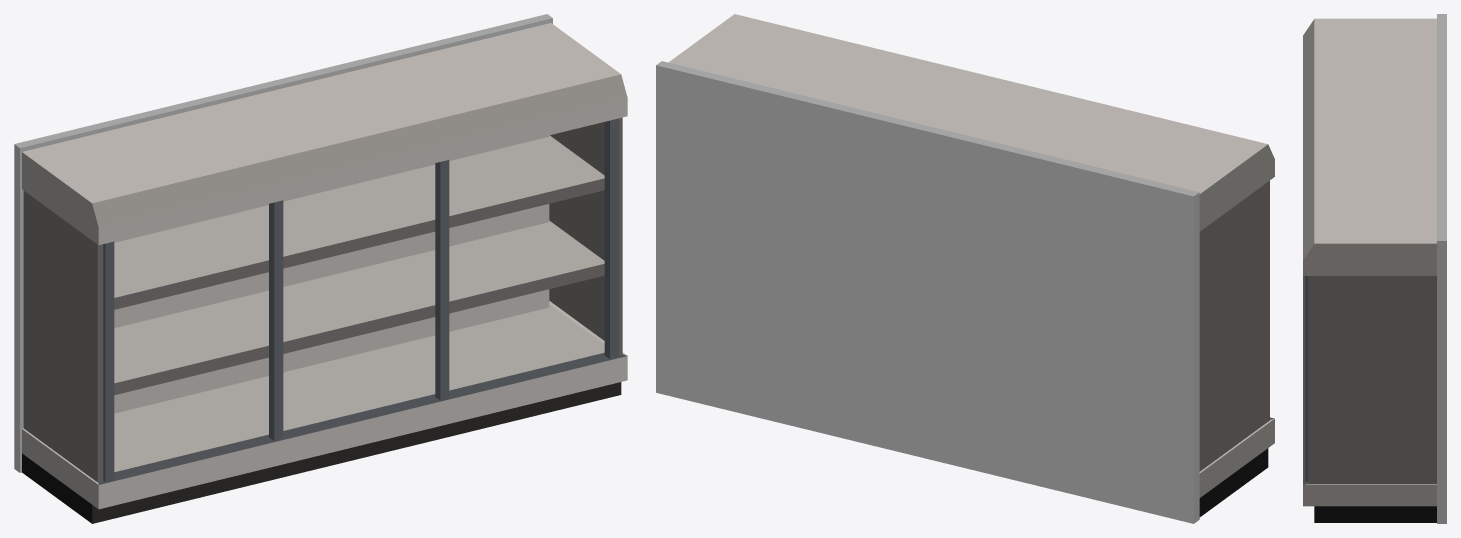
The model's file is ShelfFreezerEmpty.glb.
3 renders of one model, left to right at view 1: azimuth 30°, elevation 25°; view 2: azimuth 150°, elevation 25°; view 3: azimuth 270°, elevation 25°, orthographic. The views are drawn at different scales.
Visible parts, largest first — view 1: SI_Prop_Shelf_Freezer_Empty_01; view 2: SI_Prop_Shelf_Freezer_Empty_01; view 3: SI_Prop_Shelf_Freezer_Empty_01.
Boxes of the visible parts, left/top/right/bottom form: SI_Prop_Shelf_Freezer_Empty_01: left=14, top=14, right=627, bottom=523; SI_Prop_Shelf_Freezer_Empty_01: left=656, top=14, right=1274, bottom=523; SI_Prop_Shelf_Freezer_Empty_01: left=1303, top=14, right=1446, bottom=523.
Bounding box in the file's own units: 0.0788 × 0.0459 × 0.0211.
Materials: 1 (1 with a texture image).
